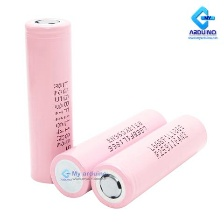battery: (87, 109, 213, 214), (44, 108, 169, 200), (22, 14, 77, 186)
